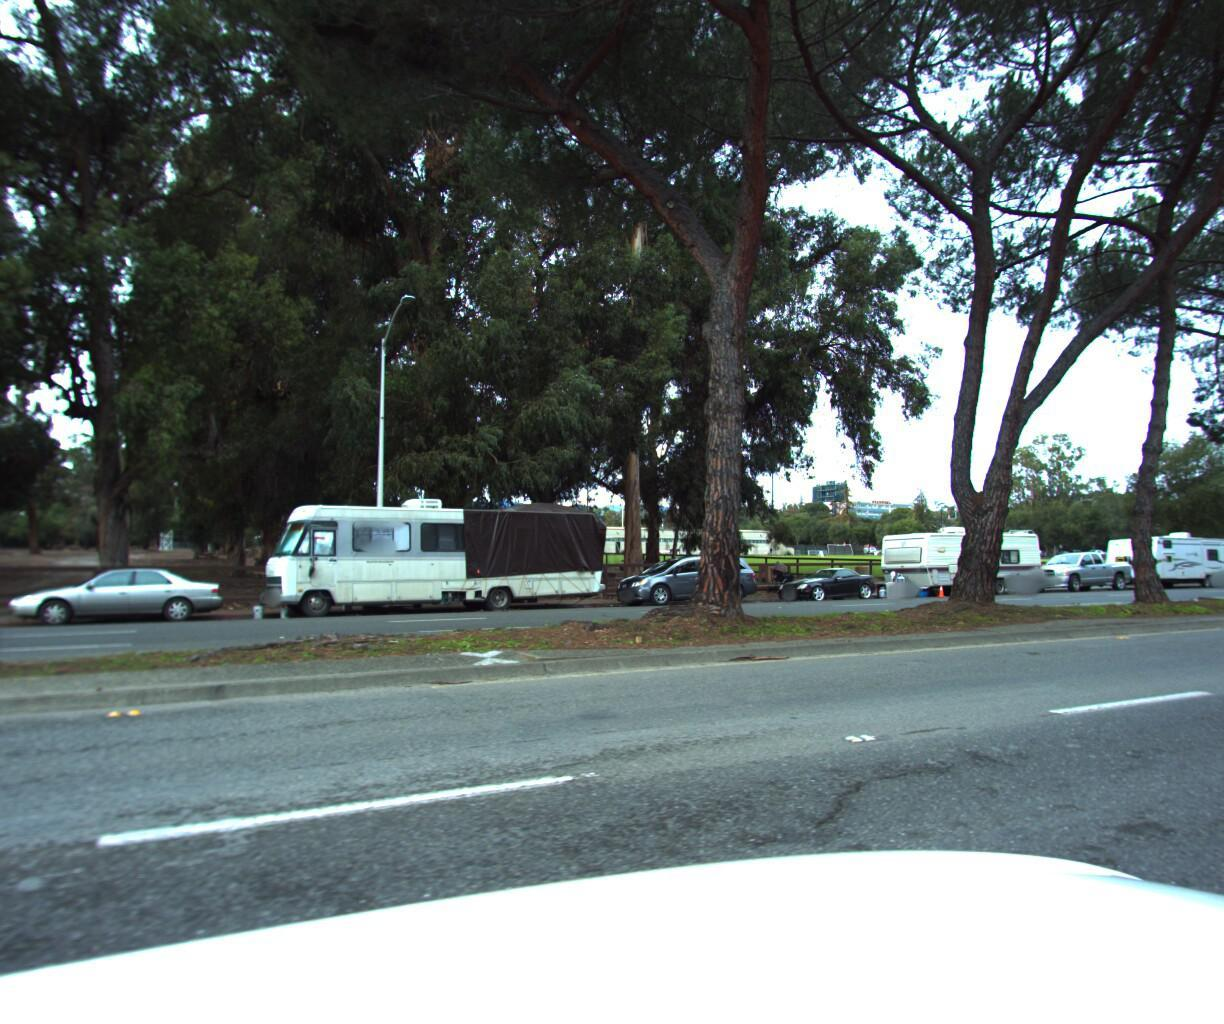car: (1, 563, 231, 633), (606, 548, 764, 606), (1018, 543, 1133, 590), (768, 560, 880, 600), (1208, 549, 1224, 582)
other_vehicle: (254, 485, 613, 628), (848, 519, 1046, 595), (1090, 520, 1224, 583)
